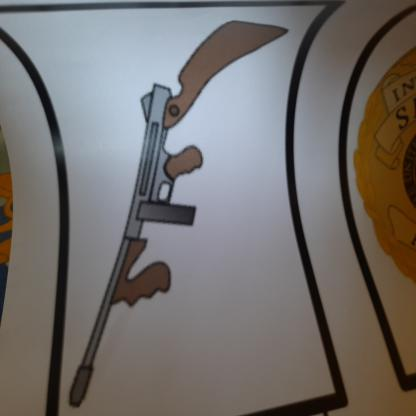Bootlegger: (62, 18, 296, 416)
